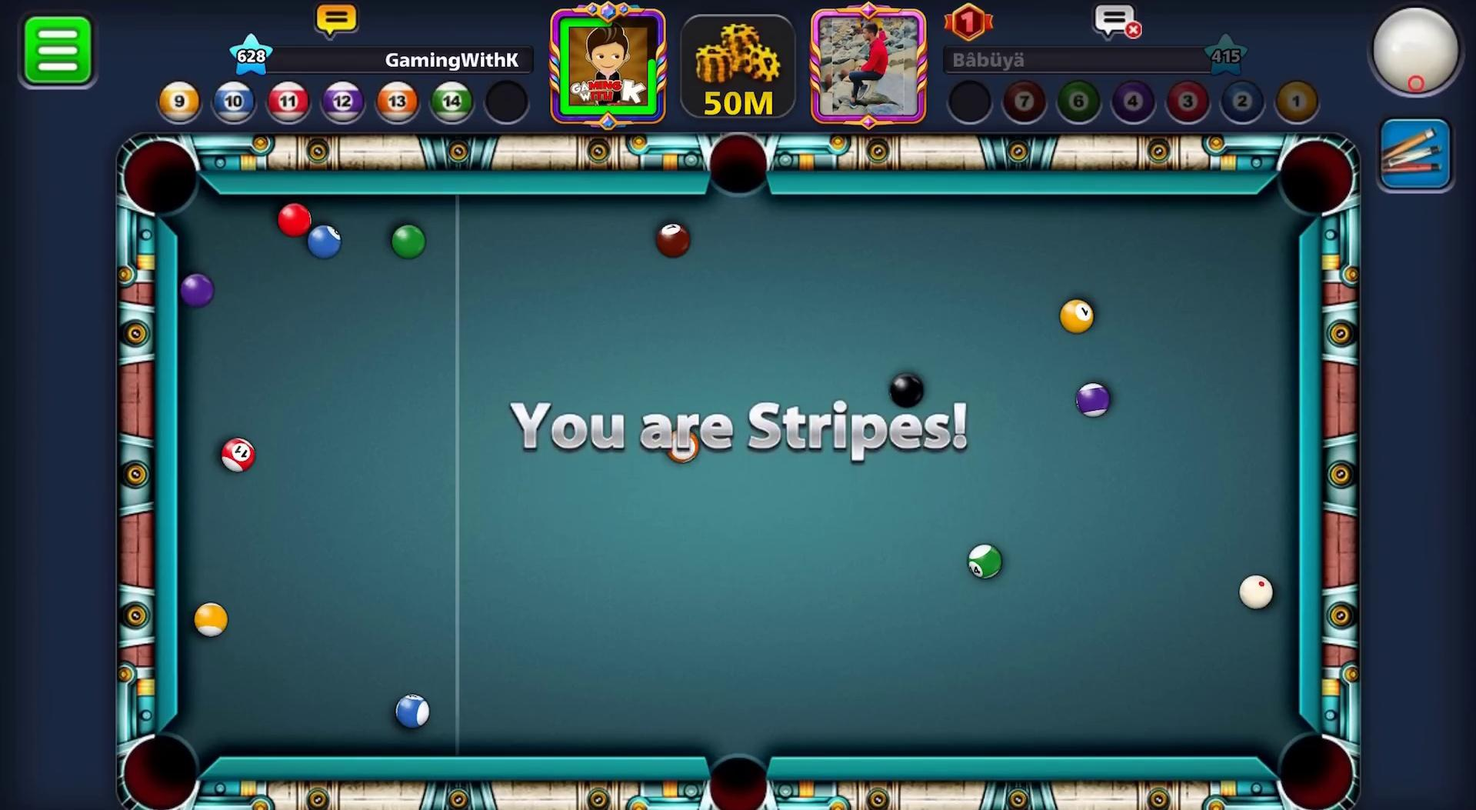Ball: (881, 368, 931, 415), (645, 217, 697, 262), (1056, 295, 1103, 343), (270, 188, 315, 238), (298, 222, 346, 268), (963, 539, 1005, 586), (176, 266, 217, 313), (216, 433, 256, 473), (191, 600, 230, 641), (390, 693, 431, 732), (1073, 382, 1114, 421), (387, 222, 425, 259), (667, 428, 697, 467)
Hole: (111, 123, 220, 233), (102, 718, 220, 809), (1258, 712, 1362, 809), (1268, 126, 1361, 231), (693, 123, 784, 215), (692, 742, 783, 809)
Play_Area: (175, 194, 1300, 762)
Spin: (1359, 0, 1475, 116)
White: (1235, 570, 1281, 617)
